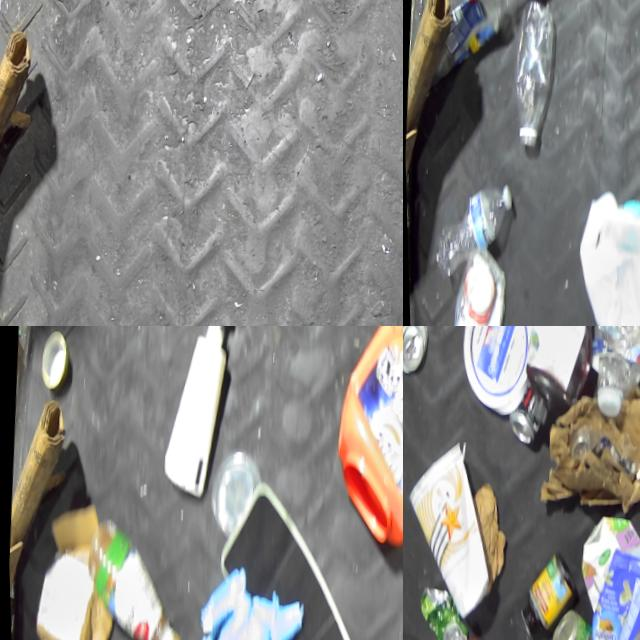can: (206, 449, 262, 538), (412, 585, 468, 640), (505, 382, 543, 444), (38, 329, 71, 391), (543, 605, 590, 640), (403, 326, 428, 374)
milk_jug: (566, 185, 640, 326)
non_white_jug: (324, 326, 403, 555), (517, 326, 598, 407), (582, 542, 640, 640)
plastic_bottle: (427, 0, 547, 90), (429, 174, 513, 285), (506, 0, 559, 153), (584, 326, 640, 420)
